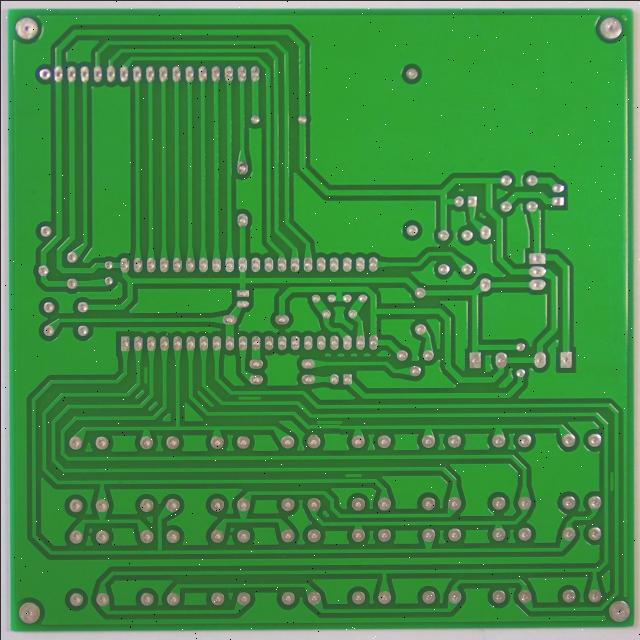spurious_copper: (604, 474, 618, 504), (309, 423, 339, 436), (336, 476, 361, 489), (228, 399, 257, 410), (132, 369, 143, 390)
